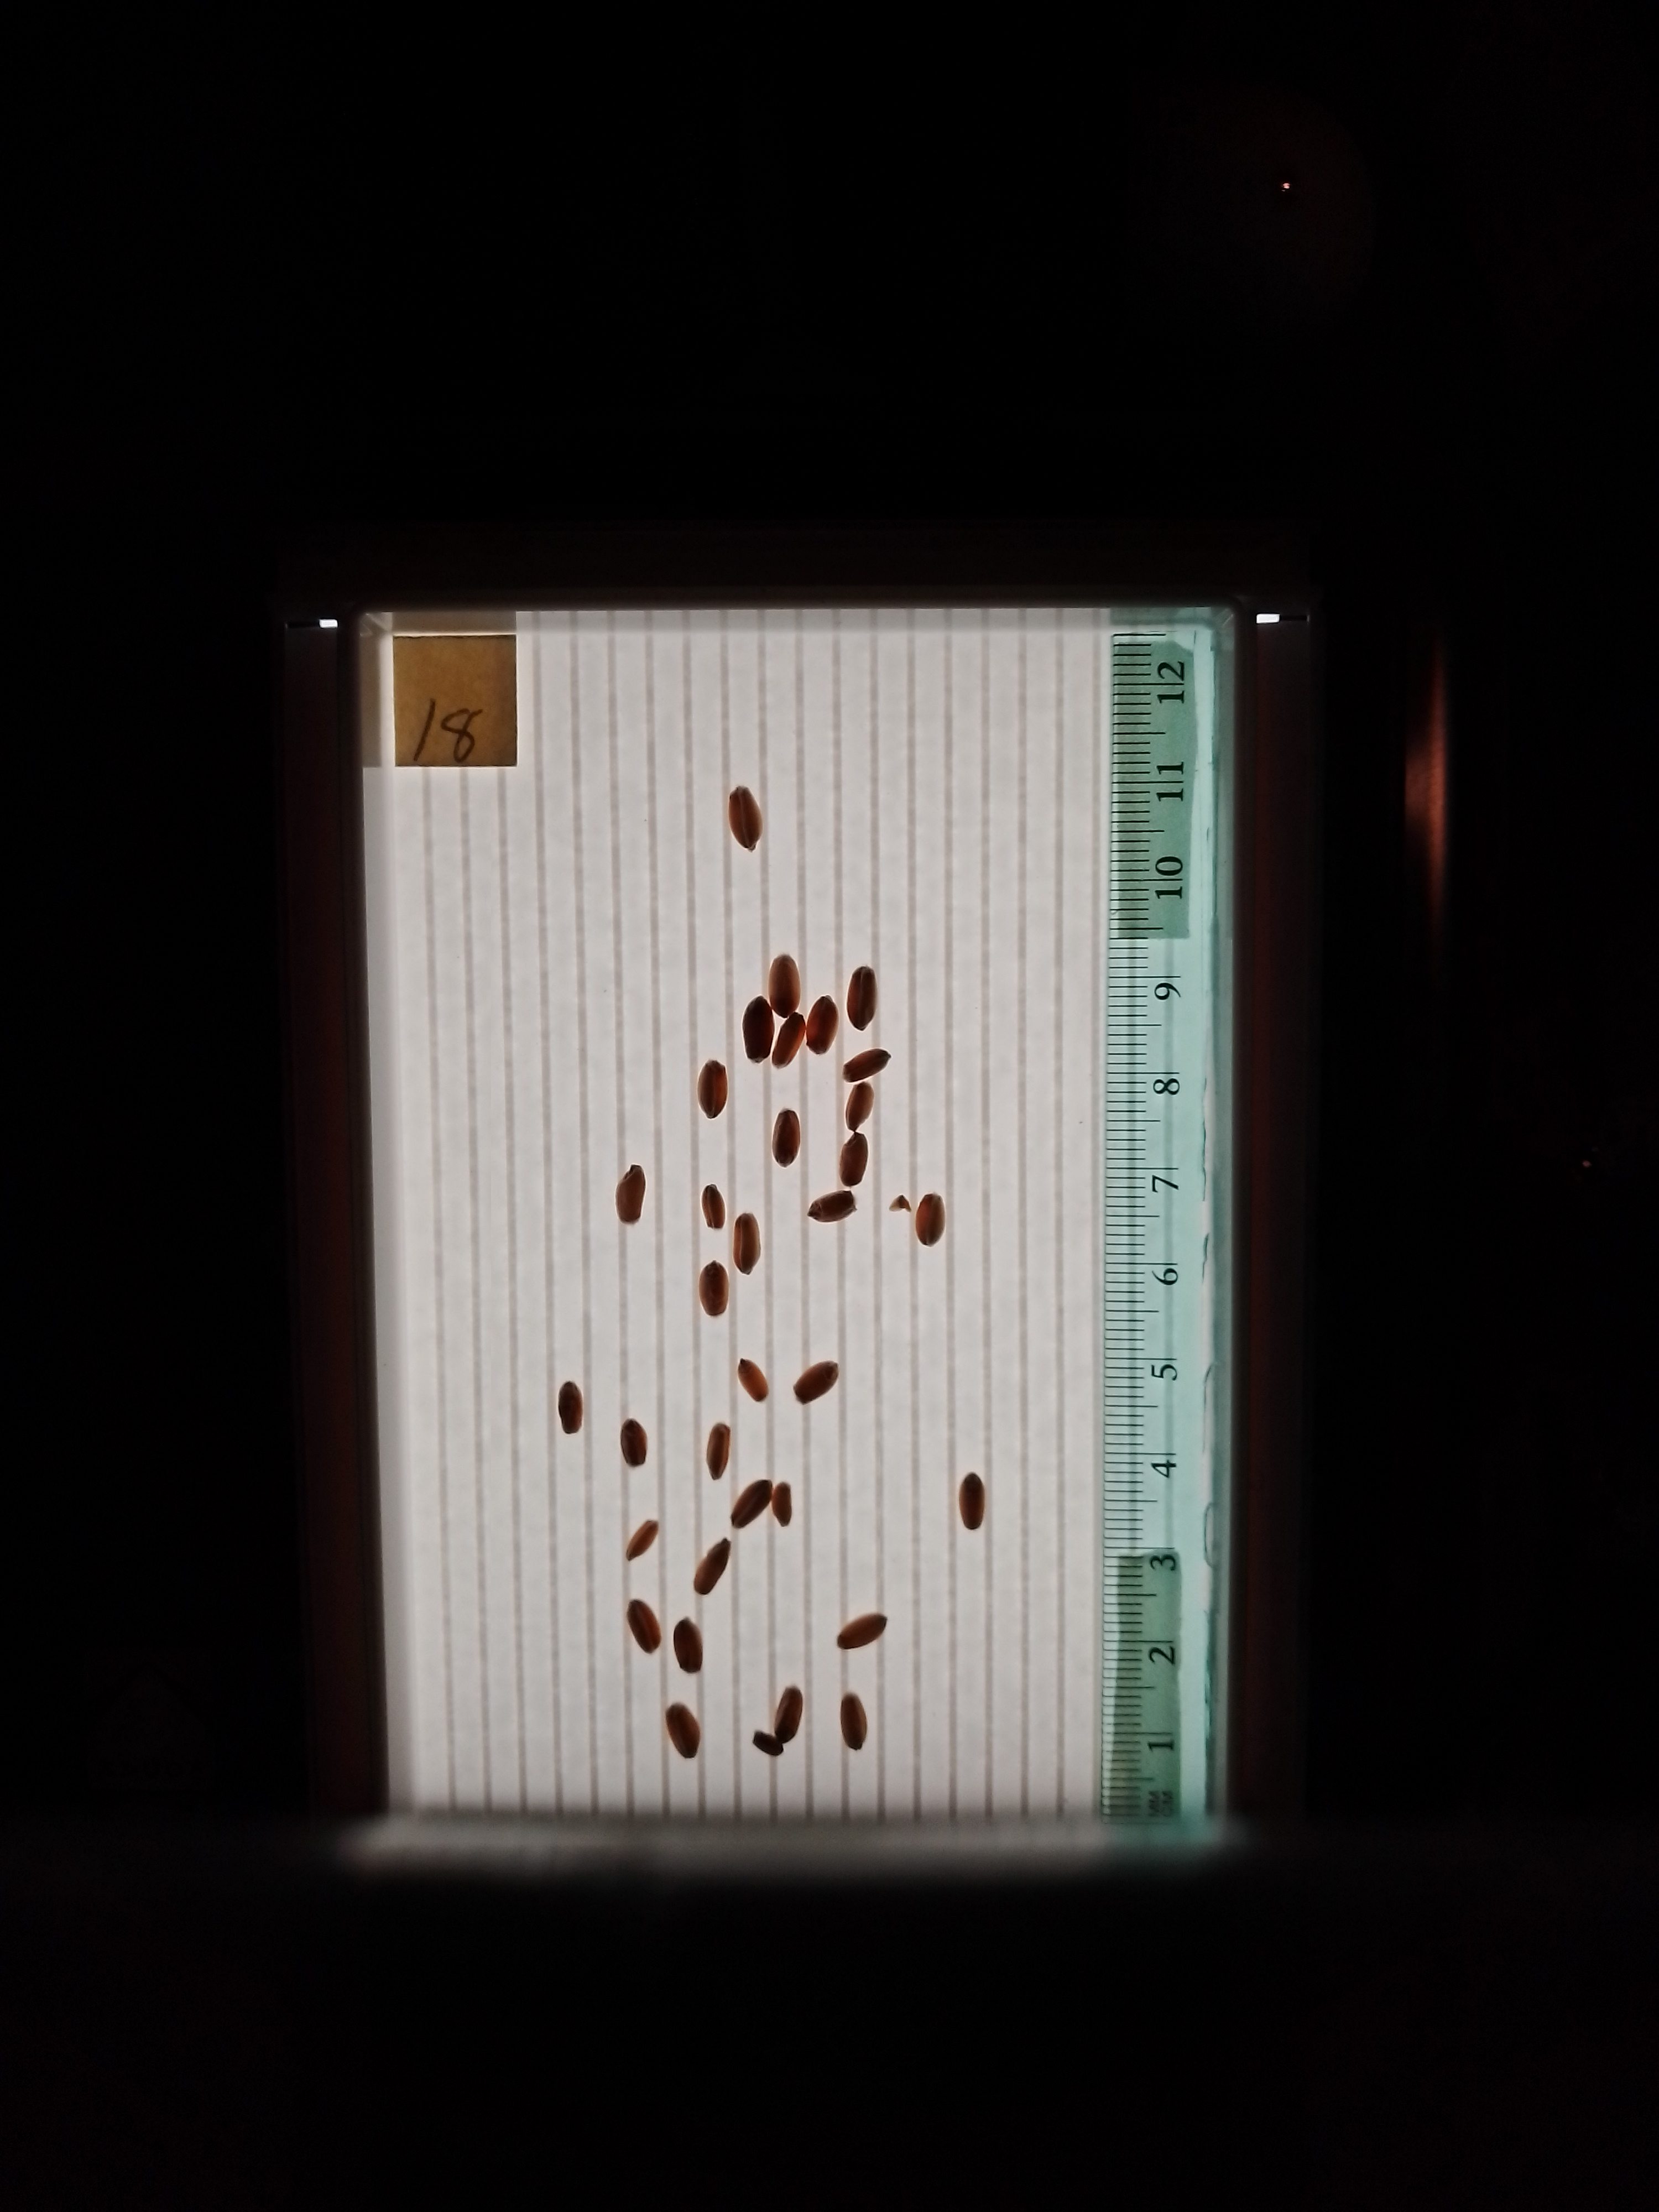seed mask: (728, 787, 763, 848), (767, 954, 800, 1015), (742, 1000, 774, 1062), (695, 1540, 730, 1595), (836, 1613, 887, 1651), (847, 968, 878, 1029), (627, 1599, 662, 1653), (732, 1480, 772, 1526), (666, 1705, 699, 1759), (732, 1214, 762, 1273), (795, 1362, 836, 1404), (699, 1263, 730, 1317), (774, 1688, 803, 1743), (807, 998, 836, 1054), (697, 1061, 727, 1116), (617, 1169, 647, 1224), (774, 1015, 805, 1068), (915, 1193, 945, 1245), (674, 1620, 702, 1674), (842, 1695, 868, 1750), (810, 1191, 854, 1224), (774, 1111, 800, 1165), (845, 1049, 889, 1080), (960, 1474, 985, 1529), (706, 1423, 730, 1479), (840, 1137, 870, 1183), (626, 1521, 659, 1561), (558, 1383, 584, 1433), (620, 1420, 648, 1467), (845, 1085, 875, 1129), (739, 1360, 767, 1400), (701, 1186, 725, 1228), (772, 1484, 791, 1524), (755, 1731, 781, 1756)
